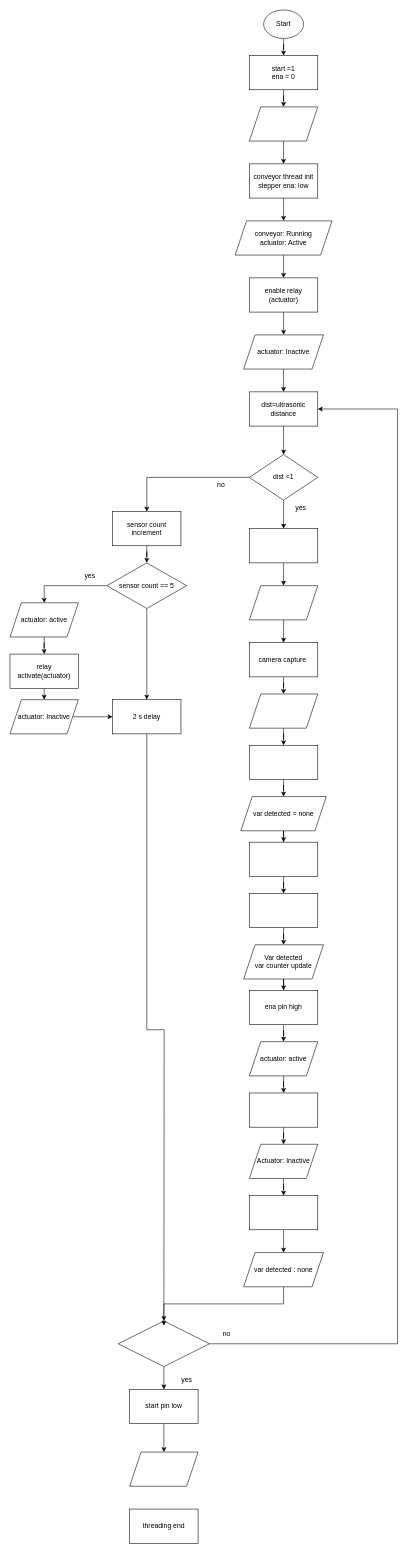
This 412x1553 diagram has some shape labels left out. Each missing label, with the centre of its shape:
captured photo: (x=283, y=710)
ena pin low reset var pins: (x=283, y=762)
ML: (x=283, y=859)
No cane detected Process End: (x=163, y=1469)
relay activate (actuator): (x=283, y=1109)
round off dist (2 dec) cane count ++: (x=283, y=545)
sensor counter = 0 dist = none: (x=283, y=1212)
sensor counter>= 10: (x=163, y=1343)
sensor: dist cane count: (x=283, y=602)
system: enabled: (x=283, y=123)
var counter increment var pin out: (x=283, y=910)
